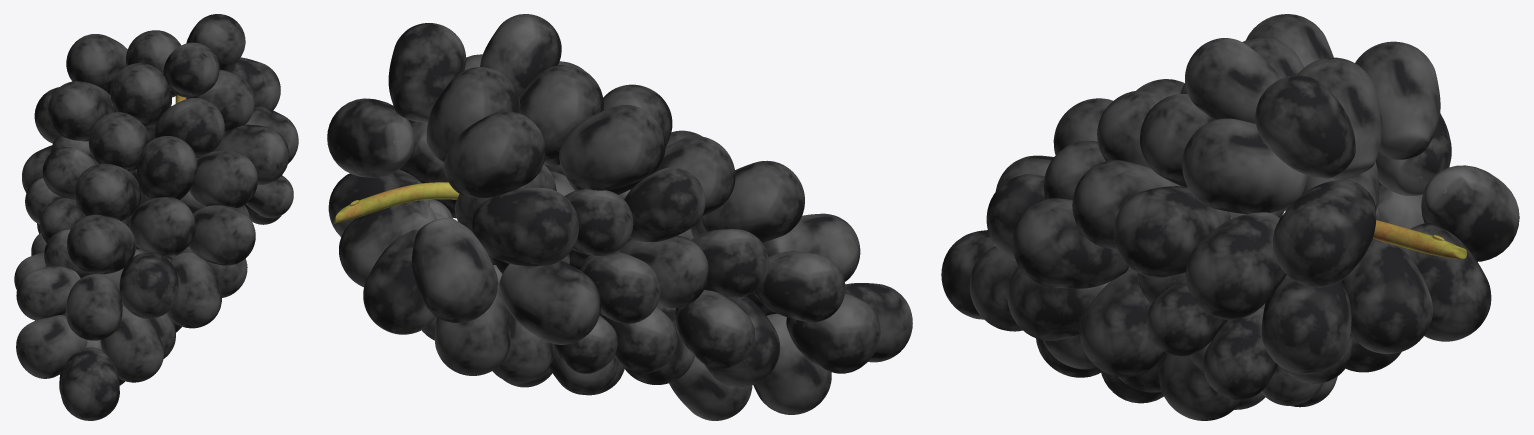
Rendered from grapes.glb.
3 renders of one model, left to right at view 1: azimuth 30°, elevation 25°; view 2: azimuth 150°, elevation 25°; view 3: azimuth 270°, elevation 25°, orthographic. The views are drawn at different scales.
Parts seen in each view (by area): view 1: nurbsToPoly37, nurbsToPoly49, nurbsToPoly22, nurbsToPoly46, nurbsToPoly67, nurbsToPoly28, nurbsToPoly51, nurbsToPoly55, nurbsToPoly53, nurbsToPoly54, nurbsToPoly56, nurbsToPoly36 (+24 smaller); view 2: nurbsToPoly18, nurbsToPoly31, nurbsToPoly33, nurbsToPoly13, nurbsToPoly43, nurbsToPoly16, nurbsToPoly15, nurbsToPoly49, nurbsToPoly65, nurbsToPoly24, nurbsToPoly53, nurbsToPoly29 (+26 smaller); view 3: nurbsToPoly34, nurbsToPoly15, nurbsToPoly61, nurbsToPoly16, nurbsToPoly39, nurbsToPoly73, nurbsToPoly14, nurbsToPoly22, nurbsToPoly13, nurbsToPoly31, nurbsToPoly50, nurbsToPoly48 (+30 smaller).
Boxes of the visible parts, left/top/right/bottom form: nurbsToPoly37: left=60, top=347, right=119, bottom=420; nurbsToPoly49: left=67, top=214, right=136, bottom=274; nurbsToPoly22: left=188, top=205, right=255, bottom=265; nurbsToPoly46: left=119, top=252, right=178, bottom=318; nurbsToPoly67: left=137, top=136, right=197, bottom=199; nurbsToPoly28: left=189, top=150, right=257, bottom=208; nurbsToPoly51: left=129, top=197, right=195, bottom=256; nurbsToPoly55: left=100, top=306, right=164, bottom=382; nurbsToPoly53: left=16, top=315, right=87, bottom=378; nurbsToPoly54: left=65, top=274, right=122, bottom=340; nurbsToPoly56: left=166, top=252, right=221, bottom=328; nurbsToPoly36: left=74, top=163, right=141, bottom=221; nurbsToPoly18: left=559, top=105, right=664, bottom=190; nurbsToPoly31: left=412, top=218, right=497, bottom=322; nurbsToPoly33: left=472, top=187, right=578, bottom=266; nurbsToPoly13: left=444, top=111, right=545, bottom=198; nurbsToPoly43: left=499, top=260, right=600, bottom=344; nurbsToPoly16: left=388, top=23, right=466, bottom=122; nurbsToPoly15: left=327, top=98, right=414, bottom=177; nurbsToPoly49: left=700, top=160, right=804, bottom=242; nurbsToPoly65: left=754, top=251, right=845, bottom=322; nurbsToPoly24: left=519, top=64, right=603, bottom=161; nurbsToPoly53: left=786, top=292, right=880, bottom=373; nurbsToPoly29: left=426, top=67, right=520, bottom=162; nurbsToPoly34: left=1182, top=118, right=1307, bottom=213; nurbsToPoly15: left=1272, top=179, right=1376, bottom=287; nurbsToPoly61: left=1185, top=212, right=1286, bottom=319; nurbsToPoly16: left=1255, top=75, right=1355, bottom=178; nurbsToPoly39: left=1341, top=238, right=1432, bottom=353; nurbsToPoly73: left=1114, top=186, right=1230, bottom=277; nurbsToPoly14: left=1261, top=275, right=1351, bottom=374; nurbsToPoly22: left=1012, top=198, right=1128, bottom=288; nurbsToPoly13: left=1355, top=41, right=1440, bottom=159; nurbsToPoly31: left=1421, top=165, right=1519, bottom=261; nurbsToPoly50: left=1079, top=268, right=1165, bottom=377; nurbsToPoly48: left=1185, top=38, right=1280, bottom=123.
Bounding box in the file's own units: 2.88 × 2.42 × 2.86.
2 materials, 2 textured.
